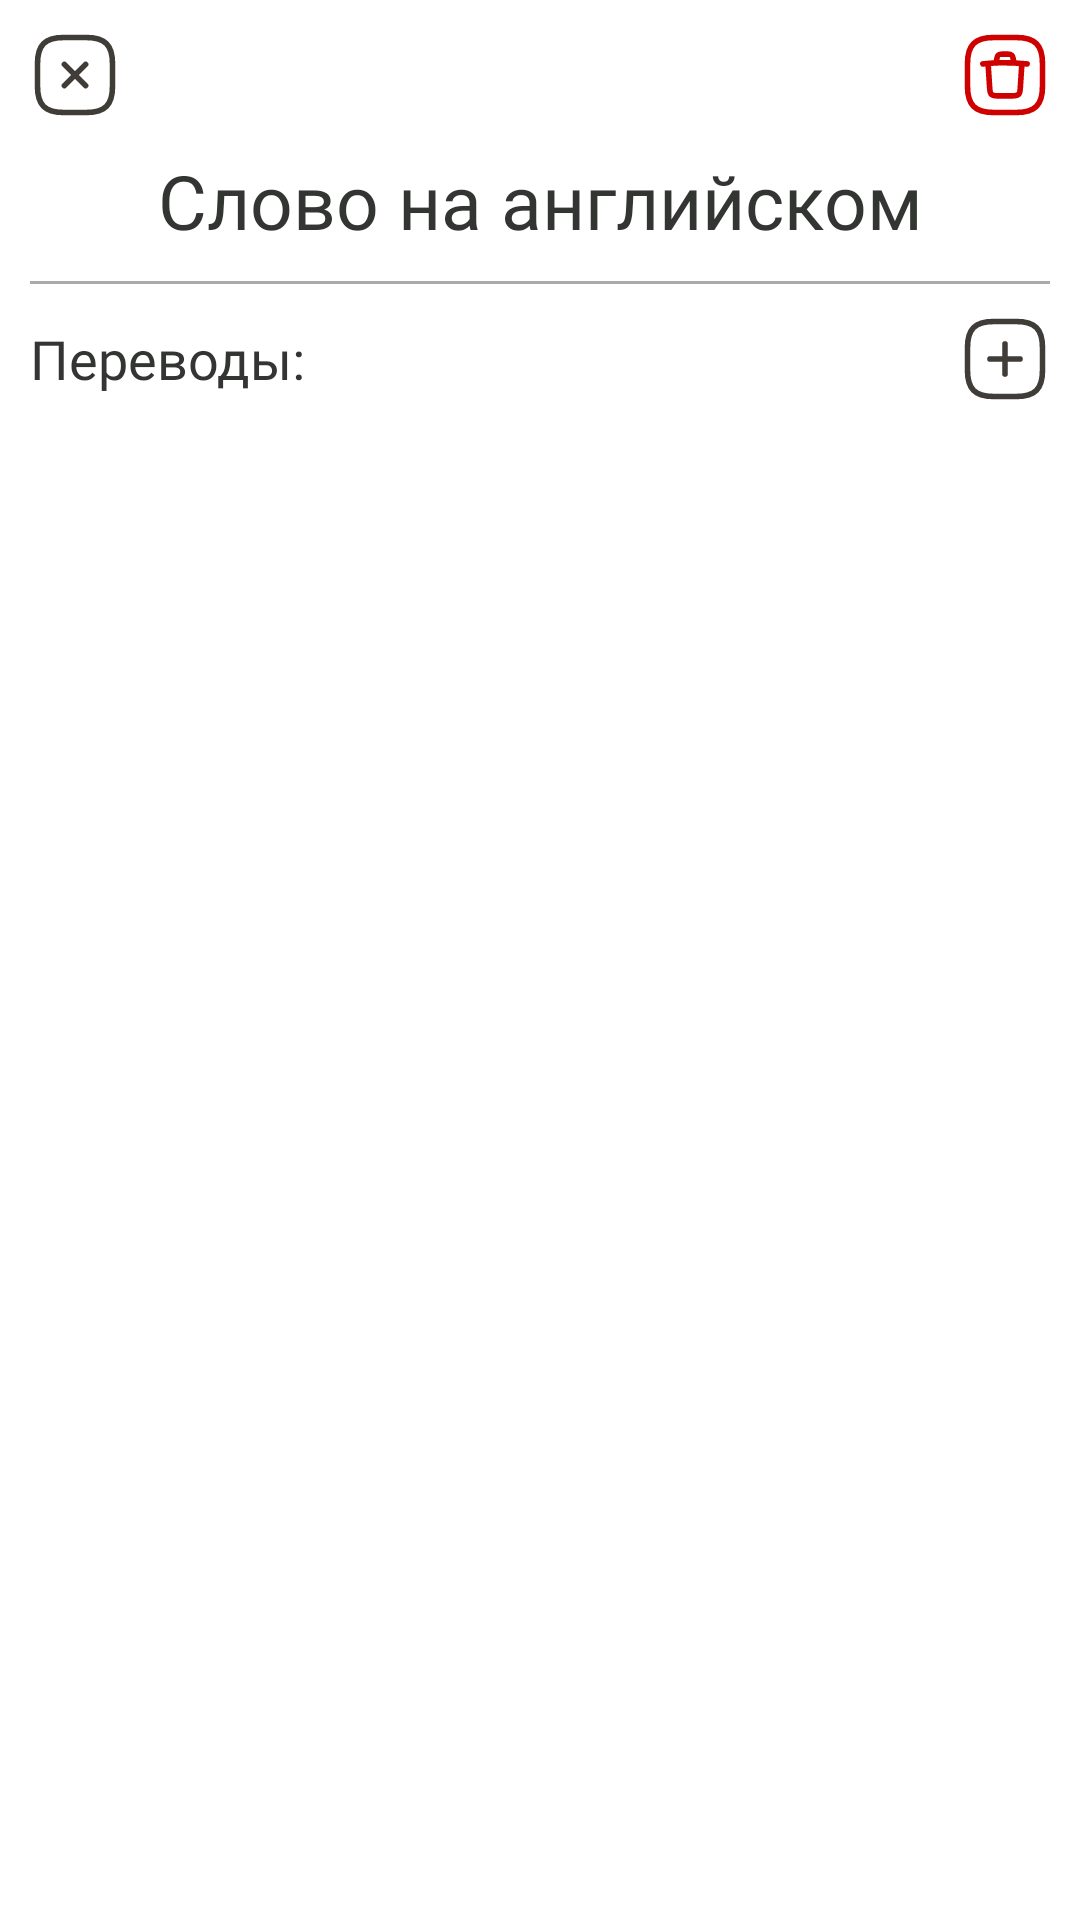

Locate icon controls on the screen. Image size 1080x1920, boxes as {"x1": x1, "y1": y1, "x2": x2, "y2": y2}.
add square: {"x1": 964, "y1": 318, "x2": 1046, "y2": 400}
close square: {"x1": 34, "y1": 34, "x2": 116, "y2": 116}
trash square: {"x1": 964, "y1": 34, "x2": 1046, "y2": 116}
